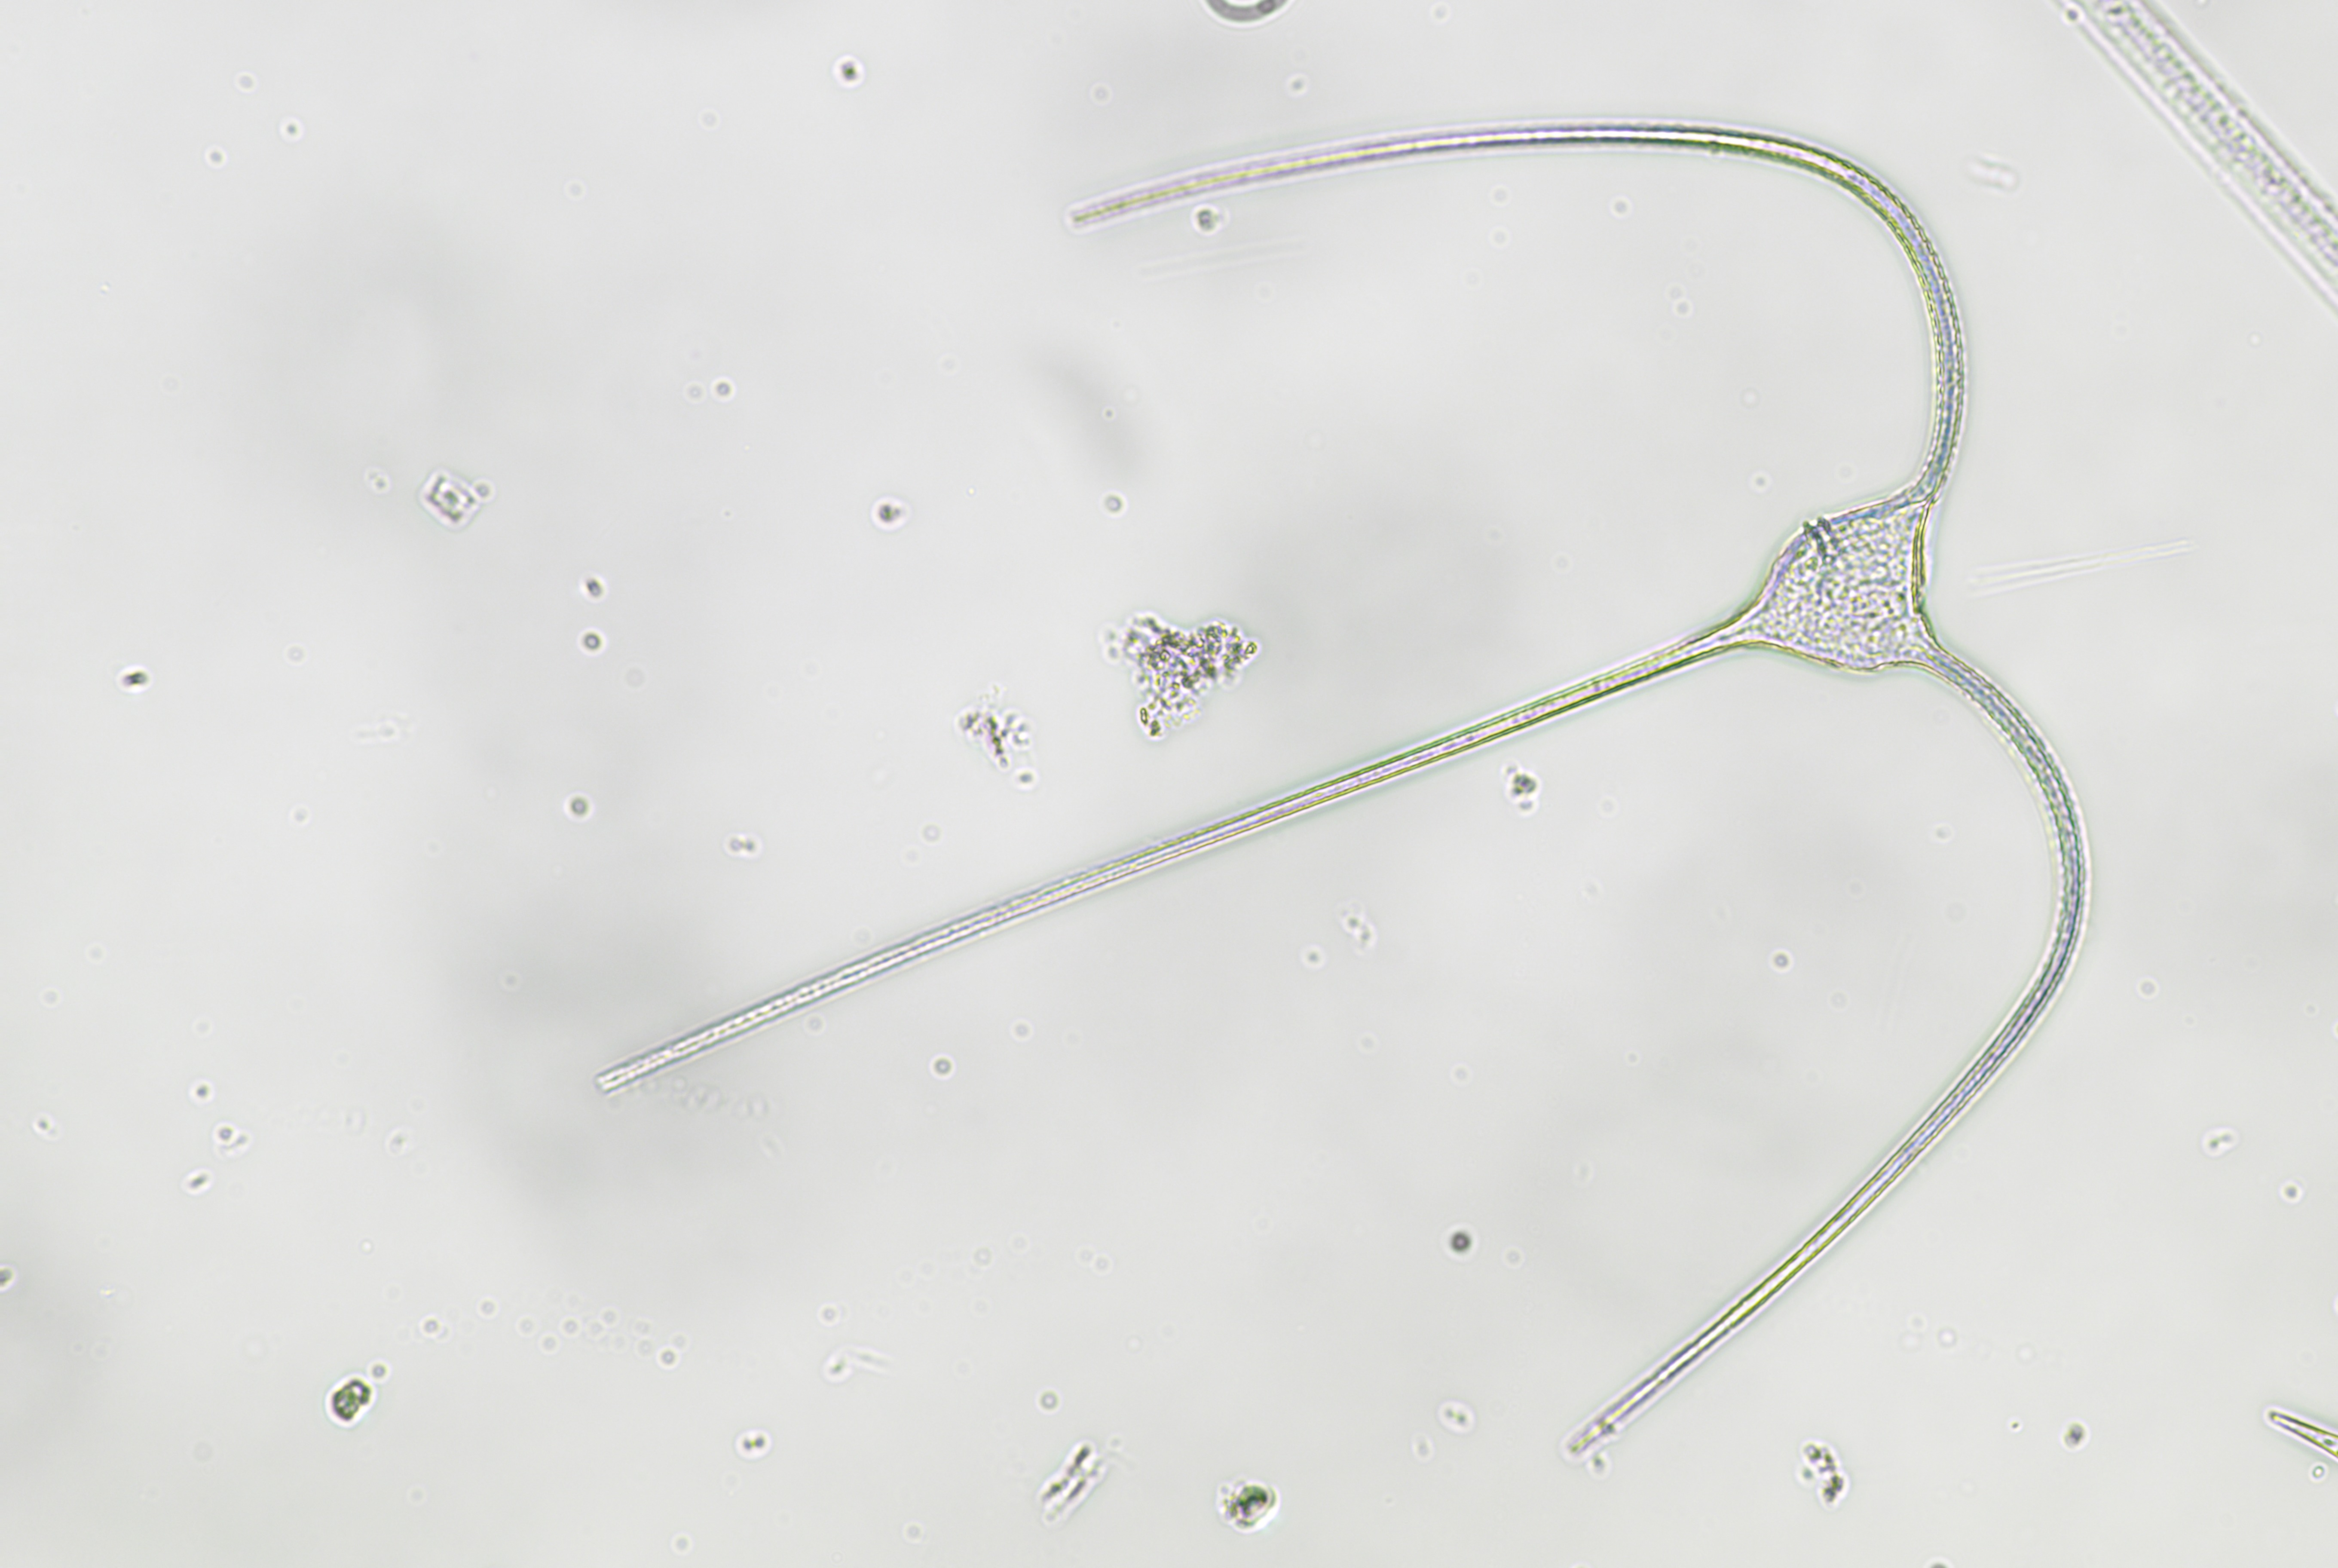ceratium trichoceros: (513, 122, 2096, 1466)
